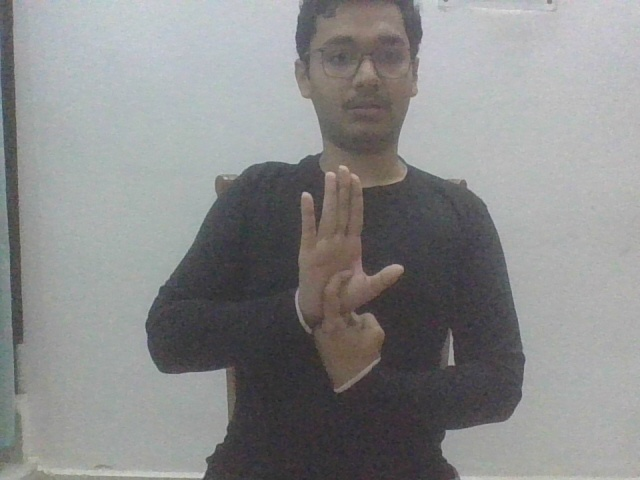R: (296, 162, 404, 397)
